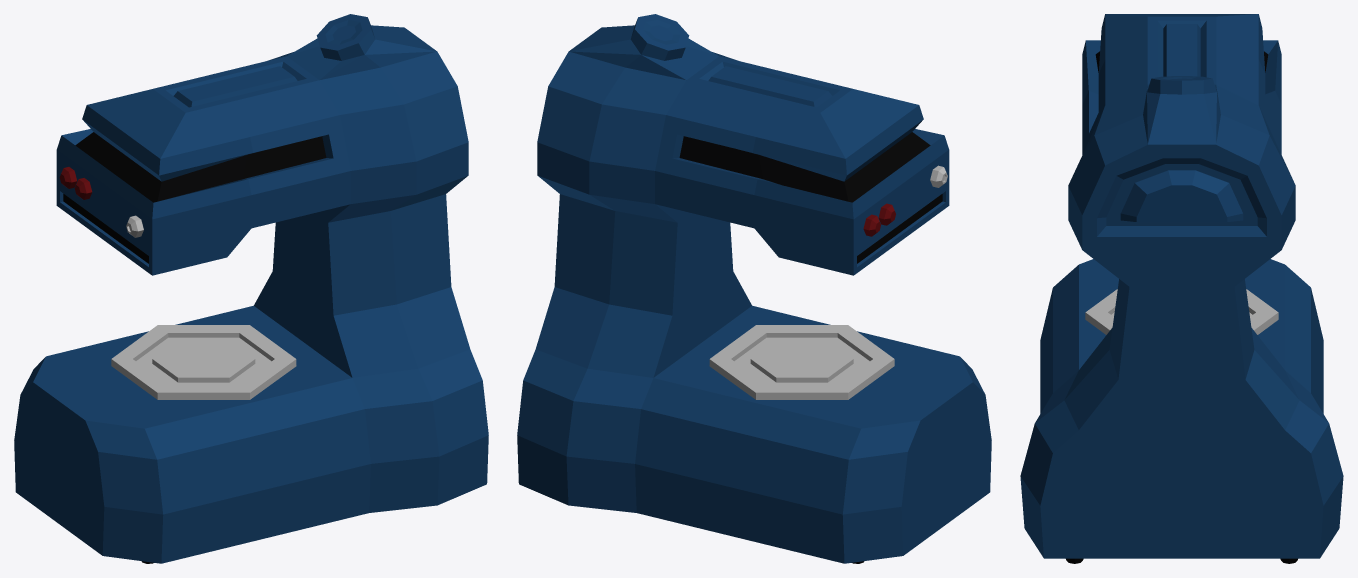
The model's file is coffee machine lvl4.fbx.
3 renders of one model, left to right at view 1: azimuth 30°, elevation 25°; view 2: azimuth 150°, elevation 25°; view 3: azimuth 270°, elevation 25°, orthographic. The views are drawn at different scales.
Parts seen in each view (by area): view 1: Cube.006; view 2: Cube.006; view 3: Cube.006.
Part boxes in pixels (<box>): Cube.006: <box>14,14,488,563</box>; Cube.006: <box>517,14,991,563</box>; Cube.006: <box>1020,14,1343,563</box>.
Bounding box in the file's own units: 170 × 236 × 267.
Materials: 1 (1 with a texture image).
